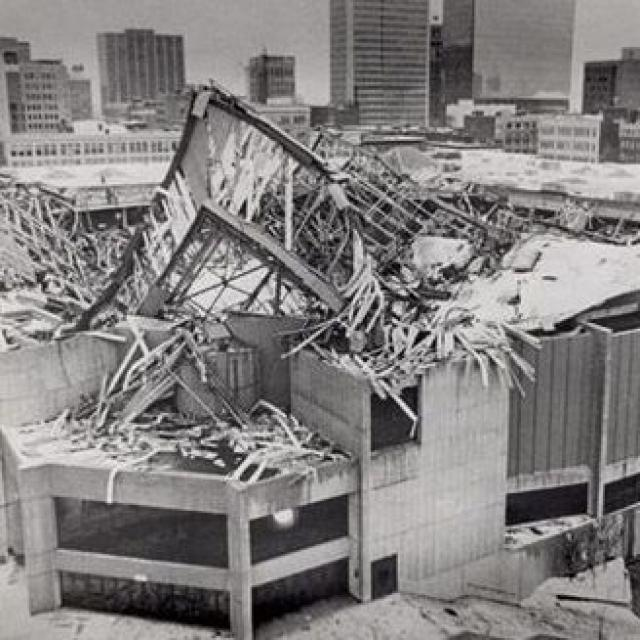collapsed_building: (2, 174, 638, 613)
